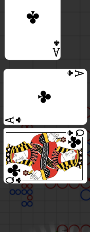AC: (52, 38, 61, 58), (5, 115, 23, 124)
